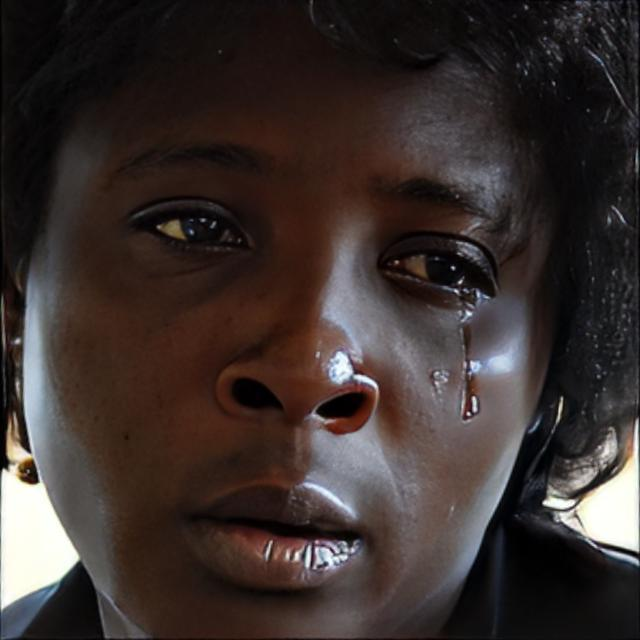sad: (22, 0, 560, 640)
